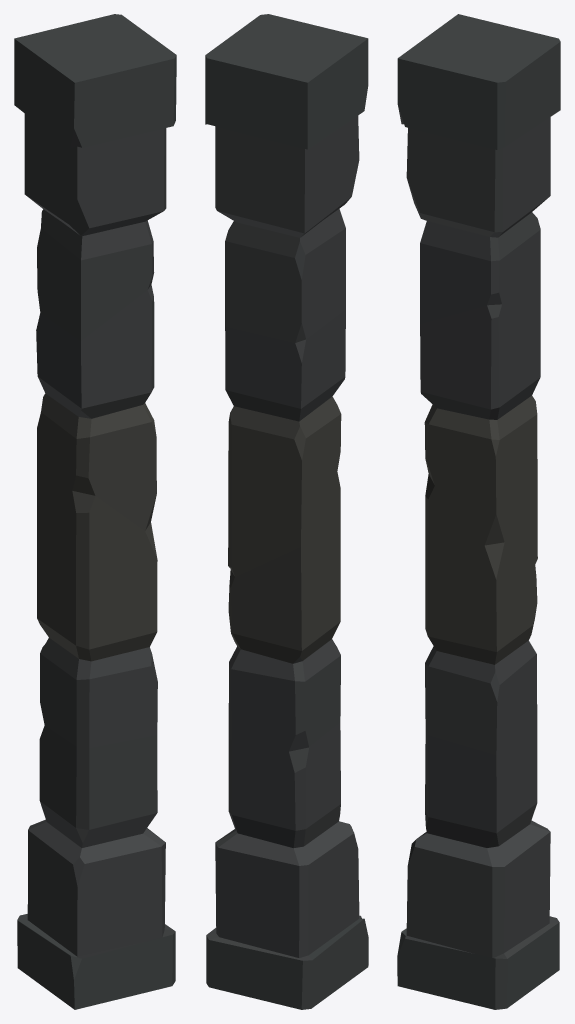
The model's file is Pillar_2.fbx.
3 renders of one model, left to right at view 1: azimuth 30°, elevation 25°; view 2: azimuth 150°, elevation 25°; view 3: azimuth 330°, elevation 25°, orthographic.
Parts seen in each view (by area): view 1: Pillar_2; view 2: Pillar_2; view 3: Pillar_2.
Part boxes in pixels (x1,y1,x2,y2): Pillar_2: [14, 14, 176, 1009]; Pillar_2: [205, 14, 368, 1009]; Pillar_2: [397, 14, 560, 1009].
Bounding box in the file's own units: 29.96 × 250 × 29.76.
